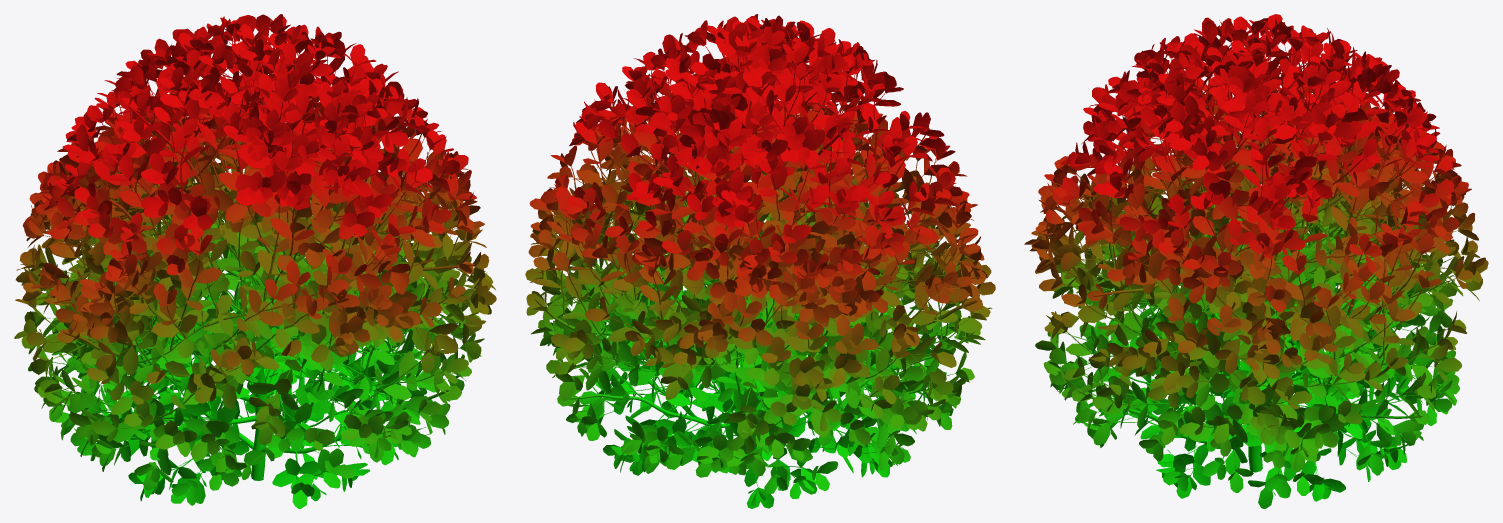
Rendered from Var8_LOD1.fbx.
3 views of the same model, side by side, from view 1: azimuth 30°, elevation 25°; view 2: azimuth 150°, elevation 25°; view 3: azimuth 270°, elevation 25° (orthographic). The views are drawn at different scales.
Visible parts, largest first — view 1: _1rzk_Var8_LOD1; view 2: _1rzk_Var8_LOD1; view 3: _1rzk_Var8_LOD1.
Part boxes in pixels (bbox=[...]): _1rzk_Var8_LOD1: bbox=[14, 14, 496, 508]; _1rzk_Var8_LOD1: bbox=[525, 14, 995, 508]; _1rzk_Var8_LOD1: bbox=[1024, 14, 1488, 508].
Bounding box in the file's own units: 48.59 × 49.36 × 47.04.
